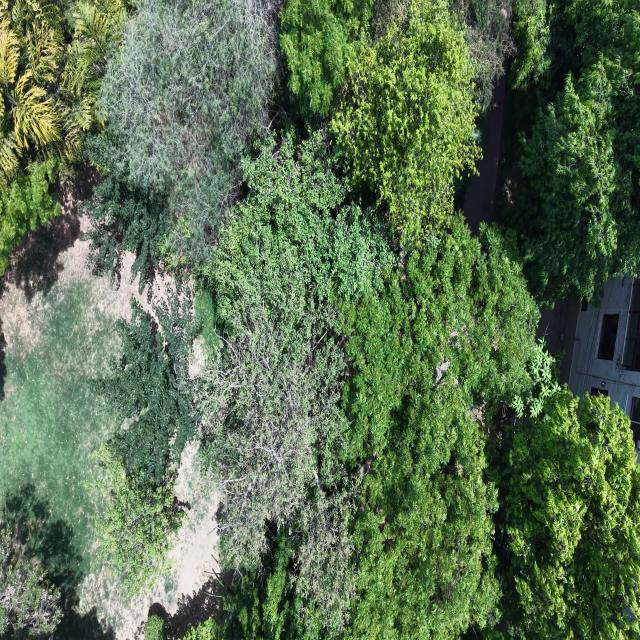DRY_AREA: (0, 192, 219, 639), (464, 76, 519, 234), (464, 76, 505, 234)
VEGETATION_TREE: (0, 0, 639, 639), (190, 3, 546, 638), (213, 221, 537, 638), (196, 134, 392, 632), (349, 346, 639, 637), (343, 220, 537, 639), (89, 2, 276, 287), (281, 0, 497, 242), (90, 0, 276, 266), (0, 232, 128, 572), (503, 0, 639, 301), (486, 387, 639, 638), (330, 0, 480, 243), (0, 0, 125, 273), (90, 292, 194, 593), (520, 61, 623, 300), (280, 0, 435, 126), (93, 295, 194, 485), (0, 0, 96, 187), (188, 531, 352, 639), (0, 483, 112, 639), (91, 446, 184, 594), (86, 152, 171, 292), (280, 0, 376, 121), (2, 483, 81, 609), (62, 0, 132, 132), (452, 0, 516, 113), (0, 160, 60, 275), (0, 528, 61, 637), (511, 0, 554, 88), (193, 283, 218, 351), (183, 618, 220, 639), (144, 615, 165, 639)
WATERBODY: (0, 219, 137, 564)
